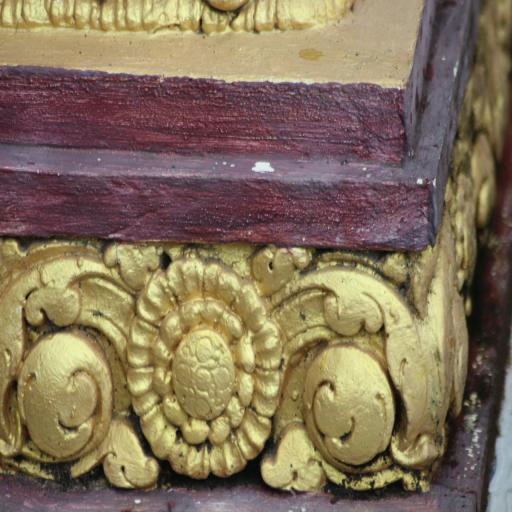hoa: (130, 256, 272, 479)
la: (271, 256, 439, 492), (0, 258, 129, 489)
